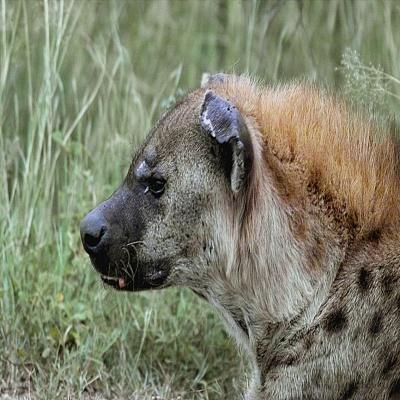hyenas: (64, 47, 400, 400)
